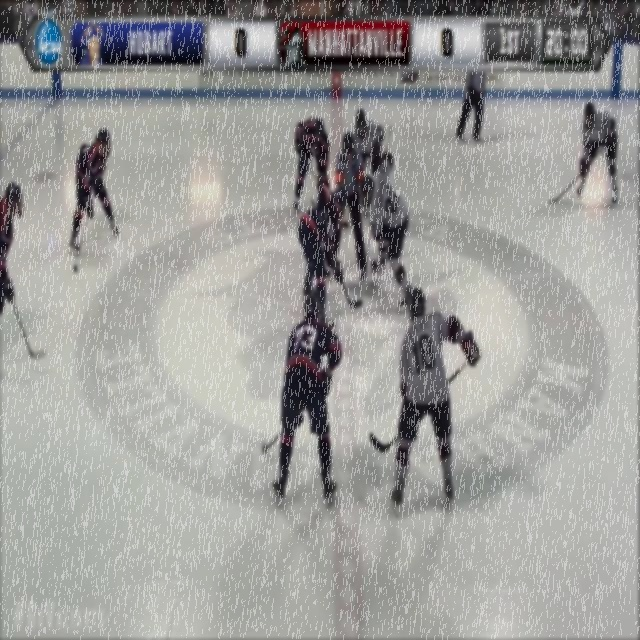pessoa: (386, 283, 484, 521), (272, 292, 344, 502), (359, 150, 417, 316), (296, 181, 349, 331), (66, 123, 121, 257), (322, 129, 368, 288), (574, 98, 620, 212), (292, 116, 332, 210), (0, 180, 25, 320), (455, 70, 487, 146), (350, 108, 382, 176), (278, 20, 306, 70), (78, 23, 106, 66), (618, 1, 640, 43), (606, 0, 620, 44), (604, 10, 620, 44)
